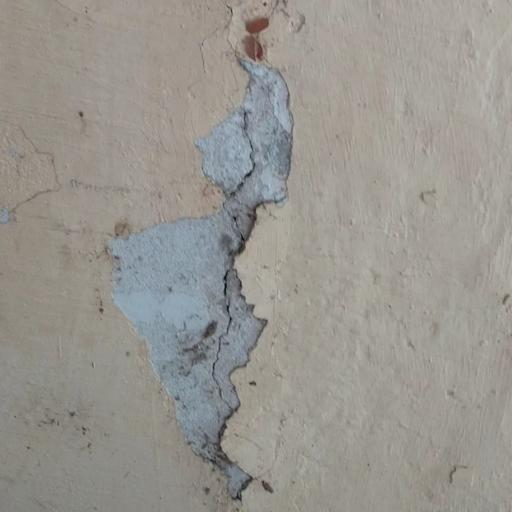peeling: (100, 6, 299, 507)
